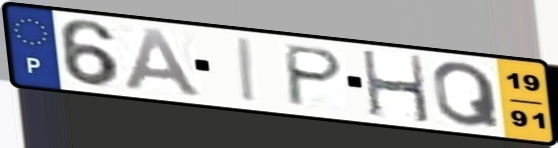6: (56, 18, 124, 90)
A: (121, 25, 207, 100)
H: (358, 48, 434, 126)
I: (237, 36, 260, 106)
P: (285, 42, 348, 109)
Q: (429, 60, 504, 130)
